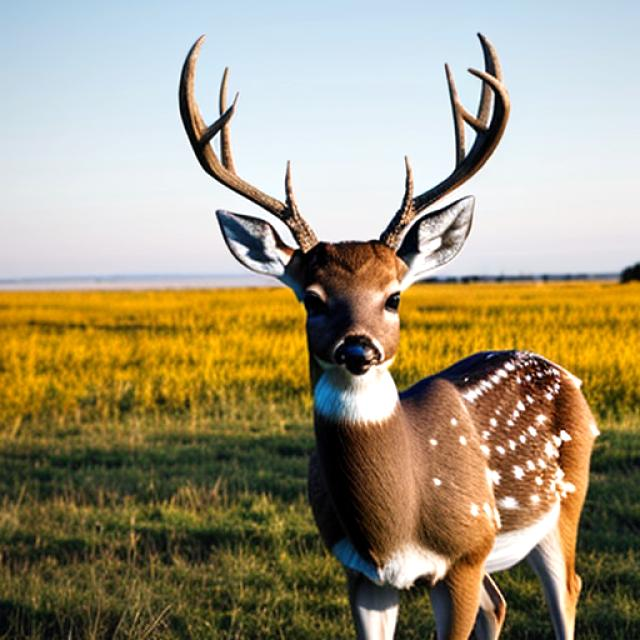deer: (141, 13, 585, 502)
